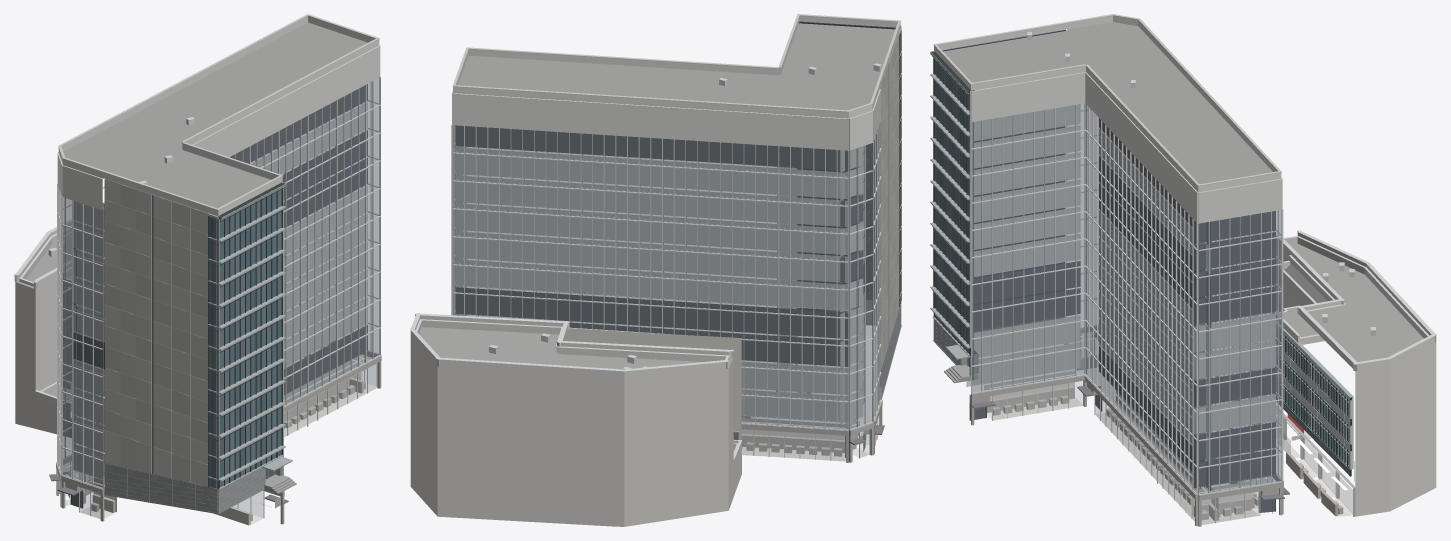
The model's file is d19-square-ab-composites.glb.
3 renders of one model, left to right at view 1: azimuth 30°, elevation 25°; view 2: azimuth 150°, elevation 25°; view 3: azimuth 270°, elevation 25°, orthographic. The views are drawn at different scales.
Visible parts, largest first — view 1: INFERRED_facade.001, 01_OBSERVED_Main_glass_grid, INFERRED_ground.001; view 2: INFERRED_facade.001, 01_OBSERVED_Main_glass_grid, INFERRED_ground.001; view 3: INFERRED_facade.001, 01_OBSERVED_Main_glass_grid, INFERRED_ground.001, Runtime_01_OBSERVED_UPPER_RIBBON_ARCHITECTURE_Opaque_closed_, Runtime_01_OBSERVED_UPPER_RIBBON_ARCHITECTURE_Shared_bluegre.
Boxes of the visible parts, x1,y1,x2,y2 form: INFERRED_facade.001: [14, 14, 381, 525]; 01_OBSERVED_Main_glass_grid: [104, 178, 296, 513]; INFERRED_ground.001: [80, 363, 376, 518]; INFERRED_facade.001: [410, 14, 900, 526]; 01_OBSERVED_Main_glass_grid: [797, 21, 901, 403]; INFERRED_ground.001: [742, 417, 878, 461]; INFERRED_facade.001: [933, 14, 1436, 526]; 01_OBSERVED_Main_glass_grid: [930, 29, 1353, 476]; INFERRED_ground.001: [993, 381, 1352, 524]; Runtime_01_OBSERVED_UPPER_RIBBON_ARCHITECTURE_Opaque_closed_: [1283, 334, 1348, 465]; Runtime_01_OBSERVED_UPPER_RIBBON_ARCHITECTURE_Shared_bluegre: [1283, 335, 1348, 466].
Bounding box in the file's own units: 54.24 × 49.77 × 65.91.
8 materials, 5 textured.
